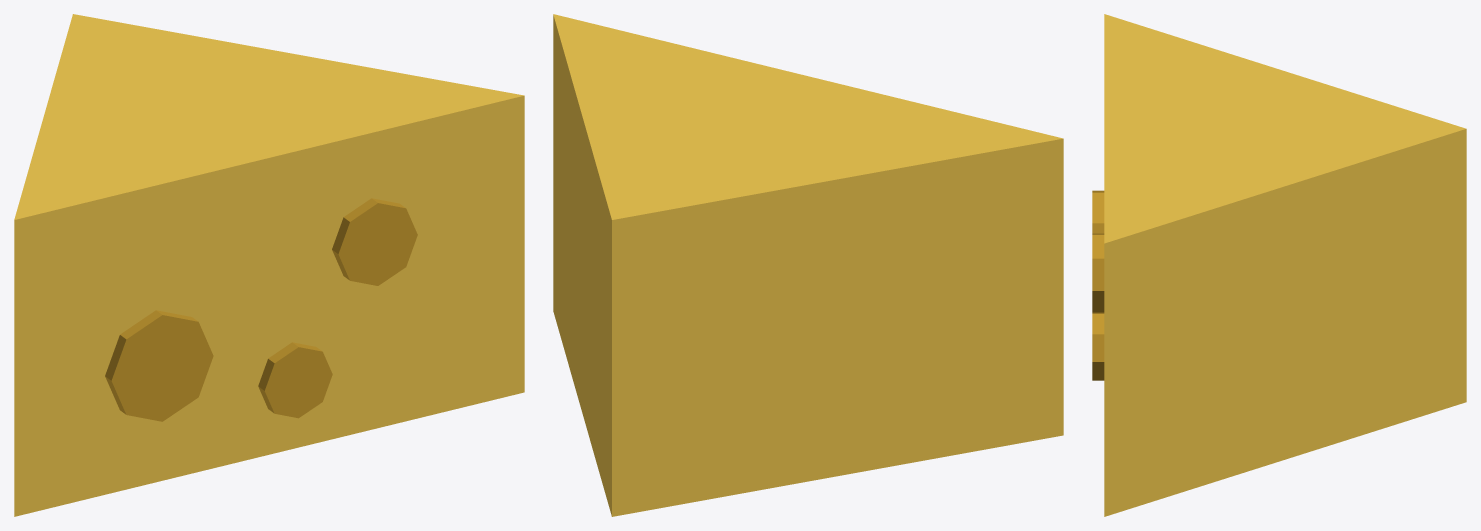
The model's file is cheese.glb.
The picture shows the model from 3 angles, left to right: view 1: azimuth 30°, elevation 25°; view 2: azimuth 150°, elevation 25°; view 3: azimuth 270°, elevation 25°; orthographic projection. The views are drawn at different scales.
Visible parts, largest first — view 1: cheese; view 2: cheese; view 3: cheese.
Boxes of the visible parts, box(x1,y1,x2,y2) form: cheese: box(14, 14, 524, 516); cheese: box(553, 14, 1063, 516); cheese: box(1092, 14, 1466, 516).
Size of the model in its own units: 0.09 by 0.05 by 0.062.
